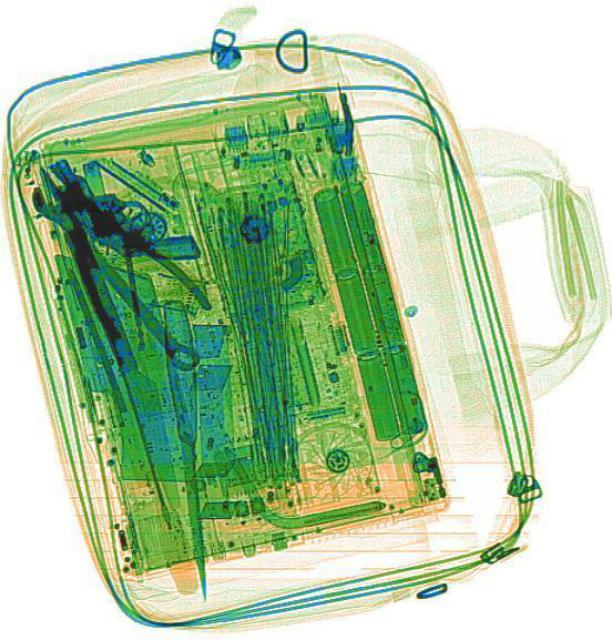Gun: (47, 122, 200, 294)
Knife: (63, 220, 198, 510), (157, 297, 215, 603)
Wrench: (20, 169, 209, 377)
